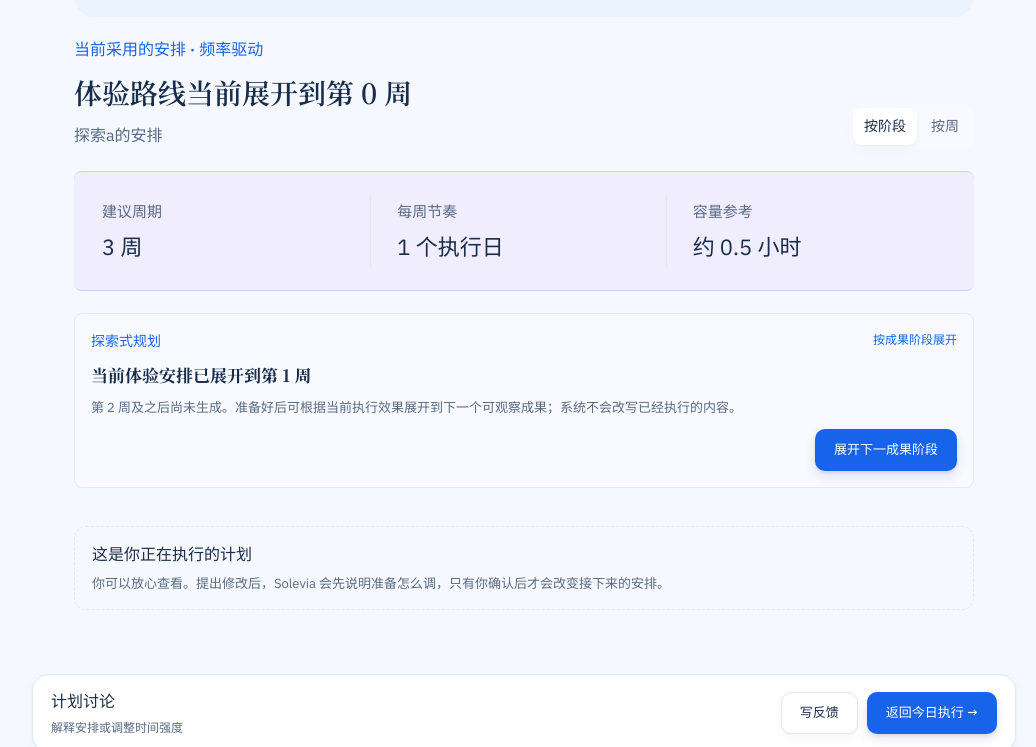
keeps late exploration generation out of another goal and restores the saved draft on return
(page scrolled)
Click the button "展开下一成果阶段": (886,450) [815,429,957,471]
(page scrolled)
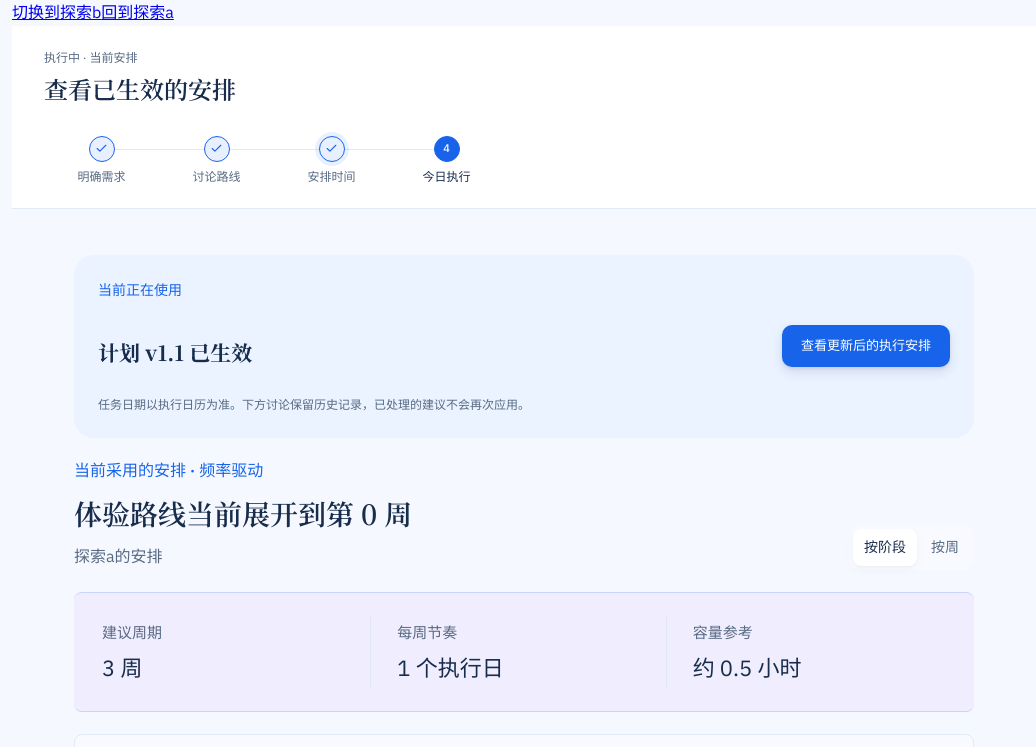
Click the link "切换到探索b": (57,12) [12,2,101,22]
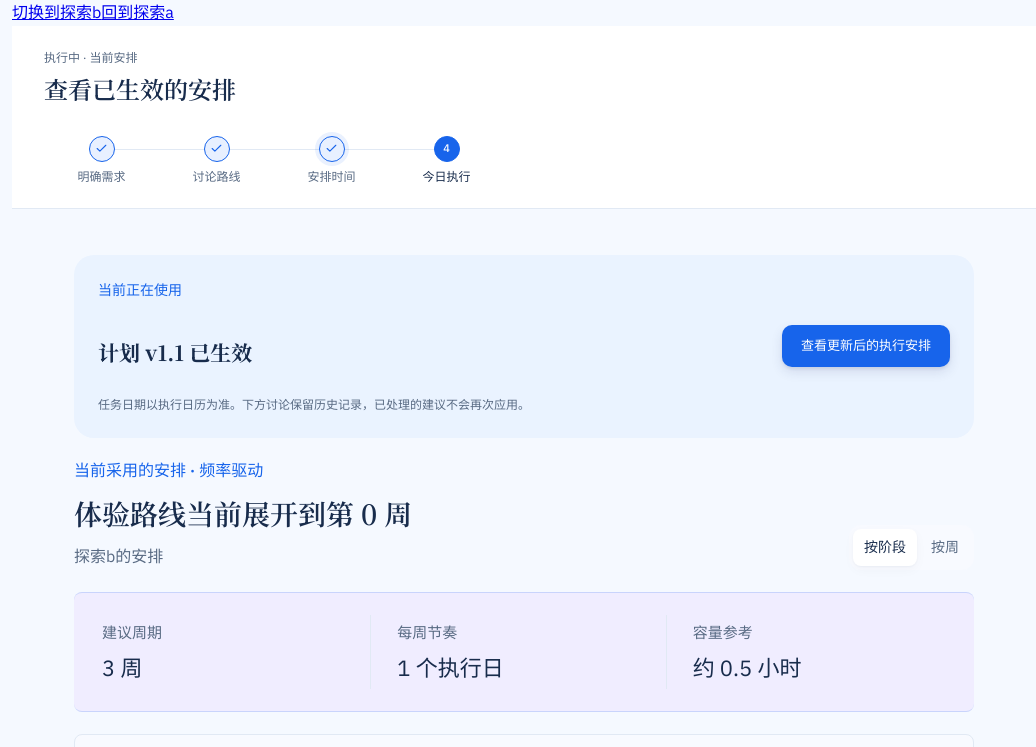
Expected: the text "第 2-2 周草案待确认" is not shown
Expected: the text "探索b的安排" is shown, [74,546,163,566]
Click the link "回到探索a": (138,12) [101,2,174,22]
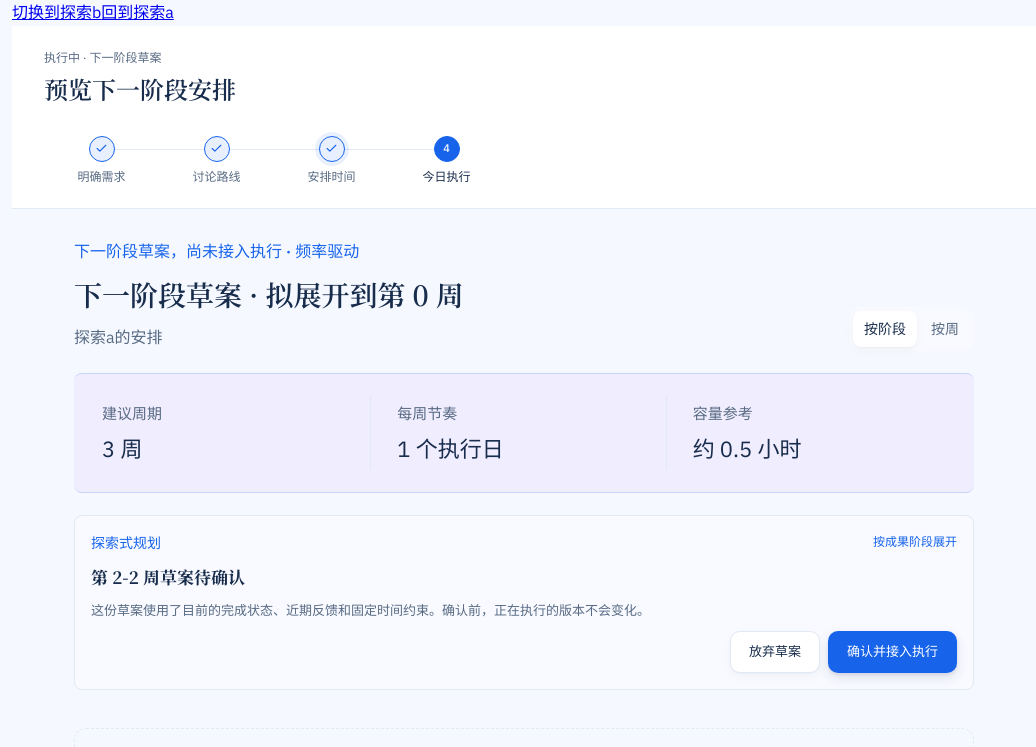
Expected: the button "确认并接入执行" is shown, [828,631,957,673]
